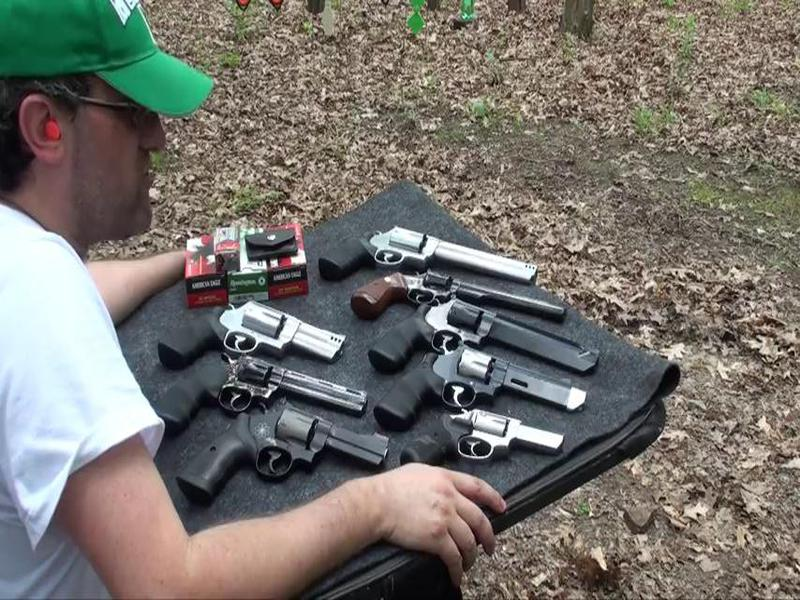Revolver: (394, 399, 567, 484)
